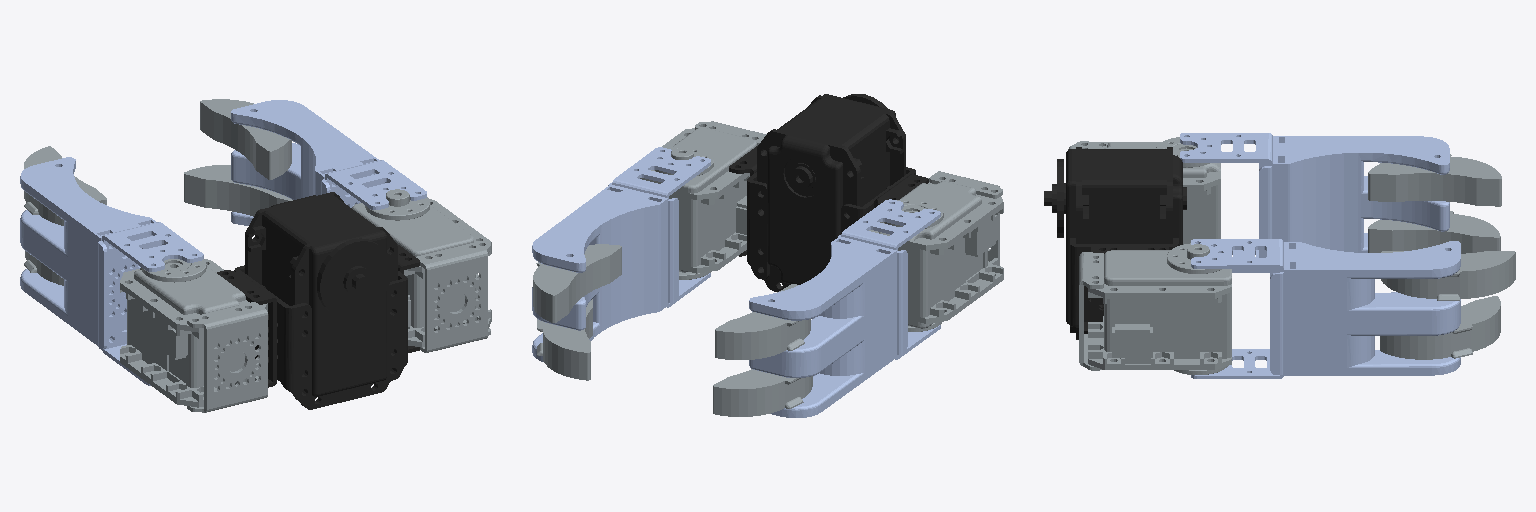
The robot description file, URDF, robot "gripper":
<?xml version="1.0" encoding="utf-8"?>
<!-- This URDF was automatically created by SolidWorks to URDF Exporter! Originally created by [author] ([email redacted]) 
     Commit Version: 1.5.1-0-g916b5db  Build Version: 1.5.7152.31018
     For more information, please see http://wiki.ros.org/sw_urdf_exporter -->
<robot
  name="gripper">
  <link
    name="gripper_base_link">
    <inertial>
      <origin
        xyz="-9.6291E-09 -0.00038057 -0.015989"
        rpy="0 0 0" />
      <mass
        value="0.080698" />
      <inertia
        ixx="3.1972E-05"
        ixy="-1.1635E-11"
        ixz="-1.916E-12"
        iyy="2.5871E-05"
        iyz="8.8121E-07"
        izz="1.8242E-05" />
    </inertial>
    <visual>
      <origin
        xyz="0 0 0"
        rpy="0 0 0" />
      <geometry>
        <mesh
          filename="package://gripper/meshes/gripper_base_link.STL" />
      </geometry>
      <material
        name="">
        <color
          rgba="0.2 0.2 0.2 1" />
      </material>
    </visual>
    <collision>
      <origin
        xyz="0 0 0"
        rpy="0 0 0" />
      <geometry>
        <mesh
          filename="package://gripper/meshes/gripper_base_link.STL" />
      </geometry>
    </collision>
  </link>
  <link
    name="motor1_link">
    <inertial>
      <origin
        xyz="-6.8132E-06 -0.011983 -1.1247E-05"
        rpy="0 0 0" />
      <mass
        value="0.046265" />
      <inertia
        ixx="1.2462E-05"
        ixy="-2.2251E-09"
        ixz="1.7814E-13"
        iyy="7.8259E-06"
        iyz="-1.8276E-07"
        izz="1.0506E-05" />
    </inertial>
    <visual>
      <origin
        xyz="0 0 0"
        rpy="0 0 0" />
      <geometry>
        <mesh
          filename="package://gripper/meshes/motor1_link.STL" />
      </geometry>
      <material
        name="">
        <color
          rgba="0.64314 0.67843 0.69804 1" />
      </material>
    </visual>
    <collision>
      <origin
        xyz="0 0 0"
        rpy="0 0 0" />
      <geometry>
        <mesh
          filename="package://gripper/meshes/motor1_link.STL" />
      </geometry>
    </collision>
  </link>
  <joint
    name="gripper_motor1_joint"
    type="fixed">
    <origin
      xyz="0.0448 0.025822 -0.022247"
      rpy="0 0 0" />
    <parent
      link="gripper_base_link" />
    <child
      link="motor1_link" />
    <axis
      xyz="0 0 0" />
  </joint>
  <link
    name="hand1_link">
    <inertial>
      <origin
        xyz="0.022 0.014965 -0.021264"
        rpy="0 0 0" />
      <mass
        value="0.034799" />
      <inertia
        ixx="1.1668E-05"
        ixy="1.0081E-14"
        ixz="1.9718E-14"
        iyy="1.5945E-05"
        iyz="1.2429E-07"
        izz="6.7071E-06" />
    </inertial>
    <visual>
      <origin
        xyz="0 0 0"
        rpy="0 0 0" />
      <geometry>
        <mesh
          filename="package://gripper/meshes/hand1_link.STL" />
      </geometry>
      <material
        name="">
        <color
          rgba="0.73333 0.8 0.93333 1" />
      </material>
    </visual>
    <collision>
      <origin
        xyz="0 0 0"
        rpy="0 0 0" />
      <geometry>
        <mesh
          filename="package://gripper/meshes/hand1_link.STL" />
      </geometry>
    </collision>
  </link>
  <joint
    name="motor1_hand_joint"
    type="revolute">
    <origin
      xyz="-0.013151 0.029934 0.02235"
      rpy="1.5658 1.5708 0" />
    <parent
      link="motor1_link" />
    <child
      link="hand1_link" />
    <axis
      xyz="0 0 0" />
    <limit
      lower="0"
      upper="0"
      effort="0"
      velocity="0" />
  </joint>
  <link
    name="fingertip1_1_link">
    <inertial>
      <origin
        xyz="-0.0010321 0.0050002 -3.5129E-05"
        rpy="0 0 0" />
      <mass
        value="0.0062622" />
      <inertia
        ixx="9.7768E-07"
        ixy="1.568E-11"
        ixz="1.5157E-09"
        iyy="1.0446E-06"
        iyz="5.6166E-12"
        izz="1.8516E-07" />
    </inertial>
    <visual>
      <origin
        xyz="0 0 0"
        rpy="0 0 0" />
      <geometry>
        <mesh
          filename="package://gripper/meshes/fingertip1_1_link.STL" />
      </geometry>
      <material
        name="">
        <color
          rgba="0.64314 0.67843 0.69804 1" />
      </material>
    </visual>
    <collision>
      <origin
        xyz="0 0 0"
        rpy="0 0 0" />
      <geometry>
        <mesh
          filename="package://gripper/meshes/fingertip1_1_link.STL" />
      </geometry>
    </collision>
  </link>
  <joint
    name="hand1_fingertip1_joint"
    type="revolute">
    <origin
      xyz="0.006 0.0072045 -0.057631"
      rpy="0 0.00089873 -1.5708" />
    <parent
      link="hand1_link" />
    <child
      link="fingertip1_1_link" />
    <axis
      xyz="0 0 0" />
    <limit
      lower="0"
      upper="0"
      effort="0"
      velocity="0" />
  </joint>
  <link
    name="fingertip1_2_link">
    <inertial>
      <origin
        xyz="-0.0010321 0.0050002 -3.5129E-05"
        rpy="0 0 0" />
      <mass
        value="0.0062622" />
      <inertia
        ixx="9.7768E-07"
        ixy="1.5681E-11"
        ixz="1.5157E-09"
        iyy="1.0446E-06"
        iyz="5.6167E-12"
        izz="1.8516E-07" />
    </inertial>
    <visual>
      <origin
        xyz="0 0 0"
        rpy="0 0 0" />
      <geometry>
        <mesh
          filename="package://gripper/meshes/fingertip1_2_link.STL" />
      </geometry>
      <material
        name="">
        <color
          rgba="0.64314 0.67843 0.69804 1" />
      </material>
    </visual>
    <collision>
      <origin
        xyz="0 0 0"
        rpy="0 0 0" />
      <geometry>
        <mesh
          filename="package://gripper/meshes/fingertip1_2_link.STL" />
      </geometry>
    </collision>
  </link>
  <joint
    name="hand1_fingertip2_joint"
    type="revolute">
    <origin
      xyz="0.038 0.0072769 -0.057346"
      rpy="3.1416 -0.4981 -1.5708" />
    <parent
      link="hand1_link" />
    <child
      link="fingertip1_2_link" />
    <axis
      xyz="0 0 0" />
    <limit
      lower="0"
      upper="0"
      effort="0"
      velocity="0" />
  </joint>
  <link
    name="motor2_link">
    <inertial>
      <origin
        xyz="-6.81872308854609E-06 -0.0119928783986908 5.17211606763587E-06"
        rpy="0 0 0" />
      <mass
        value="0.0462274482802833" />
      <inertia
        ixx="1.24622128074611E-05"
        ixy="-2.22508786119693E-09"
        ixz="1.8268813185573E-13"
        iyy="7.82573953054426E-06"
        iyz="-1.82755036692311E-07"
        izz="1.05054790707959E-05" />
    </inertial>
    <visual>
      <origin
        xyz="0 0 0"
        rpy="0 0 0" />
      <geometry>
        <mesh
          filename="package://gripper/meshes/motor2_link.STL" />
      </geometry>
      <material
        name="">
        <color
          rgba="0.643137254901961 0.67843137254902 0.698039215686274 1" />
      </material>
    </visual>
    <collision>
      <origin
        xyz="0 0 0"
        rpy="0 0 0" />
      <geometry>
        <mesh
          filename="package://gripper/meshes/motor2_link.STL" />
      </geometry>
    </collision>
  </link>
  <joint
    name="gripper_motor2_joint"
    type="fixed">
    <origin
      xyz="-0.0448 0.021922 -0.022197"
      rpy="-3.1416 0 3.1416" />
    <parent
      link="gripper_base_link" />
    <child
      link="motor2_link" />
    <axis
      xyz="0 0 0" />
  </joint>
  <link
    name="hand2_link">
    <inertial>
      <origin
        xyz="0.0220000000752691 0.0149653706200003 -0.0212637563454309"
        rpy="0 0 0" />
      <mass
        value="0.0347994466456583" />
      <inertia
        ixx="1.16677313950533E-05"
        ixy="1.00809740098804E-14"
        ixz="1.97184247731626E-14"
        iyy="1.59453274627637E-05"
        iyz="1.24290823789907E-07"
        izz="6.70710825023172E-06" />
    </inertial>
    <visual>
      <origin
        xyz="0 0 0"
        rpy="0 0 0" />
      <geometry>
        <mesh
          filename="package://gripper/meshes/hand2_link.STL" />
      </geometry>
      <material
        name="">
        <color
          rgba="0.733333333333333 0.8 0.933333333333333 1" />
      </material>
    </visual>
    <collision>
      <origin
        xyz="0 0 0"
        rpy="0 0 0" />
      <geometry>
        <mesh
          filename="package://gripper/meshes/hand2_link.STL" />
      </geometry>
    </collision>
  </link>
  <joint
    name="motor2_hand_joint"
    type="revolute">
    <origin
      xyz="-0.013151 0.029934 0.02235"
      rpy="1.5658 1.5708 0" />
    <parent
      link="motor2_link" />
    <child
      link="hand2_link" />
    <axis
      xyz="0 0 0" />
    <limit
      lower="0"
      upper="0"
      effort="0"
      velocity="0" />
  </joint>
  <link
    name="fingertip2_1_link">
    <inertial>
      <origin
        xyz="-0.00103213757770203 0.00500024041740617 -3.51285615308589E-05"
        rpy="0 0 0" />
      <mass
        value="0.00626220315523217" />
      <inertia
        ixx="9.7767596887376E-07"
        ixy="1.56803668594996E-11"
        ixz="1.5157444715102E-09"
        iyy="1.04455526714601E-06"
        iyz="5.61662128246886E-12"
        izz="1.8516351841874E-07" />
    </inertial>
    <visual>
      <origin
        xyz="0 0 0"
        rpy="0 0 0" />
      <geometry>
        <mesh
          filename="package://gripper/meshes/fingertip2_1_link.STL" />
      </geometry>
      <material
        name="">
        <color
          rgba="0.643137254901961 0.67843137254902 0.698039215686274 1" />
      </material>
    </visual>
    <collision>
      <origin
        xyz="0 0 0"
        rpy="0 0 0" />
      <geometry>
        <mesh
          filename="package://gripper/meshes/fingertip2_1_link.STL" />
      </geometry>
    </collision>
  </link>
  <joint
    name="hand2_fingertip1_joint"
    type="revolute">
    <origin
      xyz="0.006 0.0072118 -0.057537"
      rpy="0 -0.15638 -1.5708" />
    <parent
      link="hand2_link" />
    <child
      link="fingertip2_1_link" />
    <axis
      xyz="0 0 0" />
    <limit
      lower="0"
      upper="0"
      effort="0"
      velocity="0" />
  </joint>
  <link
    name="fingertip2_2_link">
    <inertial>
      <origin
        xyz="-0.00103213758851112 0.00500024042187516 -3.51285664263457E-05"
        rpy="0 0 0" />
      <mass
        value="0.00626220316616597" />
      <inertia
        ixx="9.77675969200664E-07"
        ixy="1.56806262615851E-11"
        ixz="1.51574413550611E-09"
        iyy="1.04455526789645E-06"
        iyz="5.6167744165921E-12"
        izz="1.85163518907813E-07" />
    </inertial>
    <visual>
      <origin
        xyz="0 0 0"
        rpy="0 0 0" />
      <geometry>
        <mesh
          filename="package://gripper/meshes/fingertip2_2_link.STL" />
      </geometry>
      <material
        name="">
        <color
          rgba="0.643137254901961 0.67843137254902 0.698039215686274 1" />
      </material>
    </visual>
    <collision>
      <origin
        xyz="0 0 0"
        rpy="0 0 0" />
      <geometry>
        <mesh
          filename="package://gripper/meshes/fingertip2_2_link.STL" />
      </geometry>
    </collision>
  </link>
  <joint
    name="hand2_fingertip2_joint"
    type="revolute">
    <origin
      xyz="0.038 0.0072072 -0.057573"
      rpy="3.1416 -0.095497 -1.5708" />
    <parent
      link="hand2_link" />
    <child
      link="fingertip2_2_link" />
    <axis
      xyz="0 0 0" />
    <limit
      lower="0"
      upper="0"
      effort="0"
      velocity="0" />
  </joint>
</robot>

--- What the picture shows (computed from the rendered views, not written in the file) ---
The picture shows the robot from 3 angles, left to right: view 1: azimuth 30°, elevation 25°; view 2: azimuth 150°, elevation 25°; view 3: azimuth 270°, elevation 25°; orthographic projection.
Model gripper with 9 links and 8 joints (6 revolute, 2 fixed), rooted at gripper_base_link, posed all joints at 0.
Visible links, largest first — view 1: gripper_base_link, motor2_link, hand2_link, motor1_link, hand1_link, fingertip1_1_link, fingertip1_2_link, fingertip2_2_link; view 2: gripper_base_link, hand2_link, hand1_link, motor2_link, motor1_link, fingertip1_1_link, fingertip2_1_link, fingertip2_2_link, fingertip1_2_link; view 3: hand1_link, hand2_link, motor1_link, gripper_base_link, fingertip2_2_link, fingertip1_2_link, fingertip1_1_link, motor2_link, fingertip2_1_link.
Link boxes in pixels (x1=…): gripper_base_link: x1=217, y1=192, x2=419, y2=409; motor2_link: x1=120, y1=259, x2=267, y2=412; hand2_link: x1=20, y1=157, x2=203, y2=385; motor1_link: x1=352, y1=189, x2=491, y2=352; hand1_link: x1=231, y1=100, x2=426, y2=225; fingertip1_1_link: x1=200, y1=99, x2=291, y2=179; fingertip1_2_link: x1=184, y1=165, x2=292, y2=216; fingertip2_2_link: x1=24, y1=146, x2=106, y2=225; gripper_base_link: x1=729, y1=94, x2=928, y2=291; hand2_link: x1=749, y1=199, x2=940, y2=417; hand1_link: x1=532, y1=147, x2=710, y2=361; motor2_link: x1=869, y1=171, x2=1003, y2=331; motor1_link: x1=640, y1=121, x2=766, y2=279; fingertip1_1_link: x1=533, y1=244, x2=621, y2=322; fingertip2_1_link: x1=713, y1=369, x2=812, y2=416; fingertip2_2_link: x1=715, y1=284, x2=810, y2=359; fingertip1_2_link: x1=537, y1=299, x2=592, y2=380; hand1_link: x1=1191, y1=239, x2=1460, y2=378; hand2_link: x1=1180, y1=133, x2=1449, y2=272; motor1_link: x1=1079, y1=243, x2=1231, y2=374; gripper_base_link: x1=1044, y1=147, x2=1186, y2=339; fingertip2_2_link: x1=1368, y1=154, x2=1501, y2=206; fingertip1_2_link: x1=1380, y1=296, x2=1500, y2=359; fingertip1_1_link: x1=1381, y1=251, x2=1515, y2=300; motor2_link: x1=1068, y1=137, x2=1220, y2=244; fingertip2_1_link: x1=1368, y1=211, x2=1500, y2=253.
Bounding box of the posed robot: 0.1252 × 0.165 × 0.0621 m (x, y, z).
Meshes: 9 distinct files referenced, 9 mesh visuals loaded (9 binary STL).